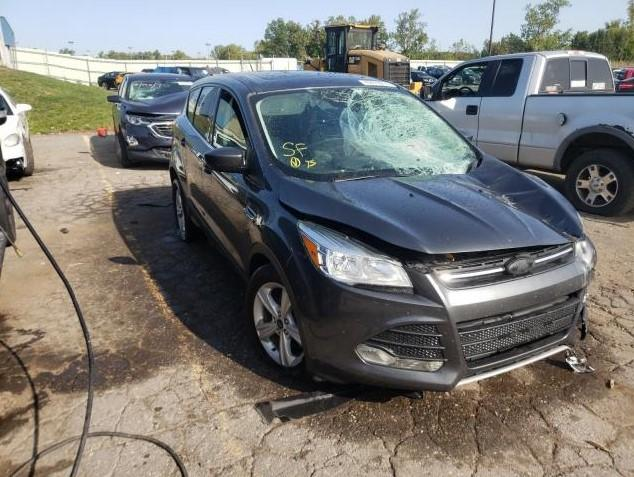Back-door: (182, 83, 219, 224)
Back-wheel: (172, 177, 202, 241)
Back-window: (187, 86, 217, 142)
Fender: (241, 163, 299, 280)
Front-bumper: (280, 233, 597, 392)
Front-door: (204, 85, 263, 270)
Front-wheel: (244, 262, 311, 376)
Front-window: (212, 88, 250, 152)
Grille: (428, 242, 575, 289)
Headlight: (298, 220, 415, 294), (576, 235, 595, 271)
Hood: (278, 154, 586, 254)
Mirror: (205, 145, 262, 176)
Quarter-panel: (170, 112, 187, 193)
Rocker-panel: (187, 203, 249, 284)
Roof: (192, 70, 402, 96)
Windshield: (248, 86, 482, 182)
